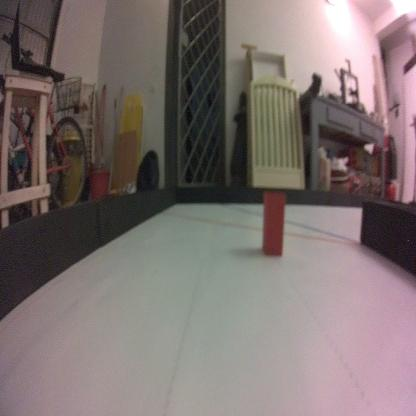red: (261, 188, 287, 260)
